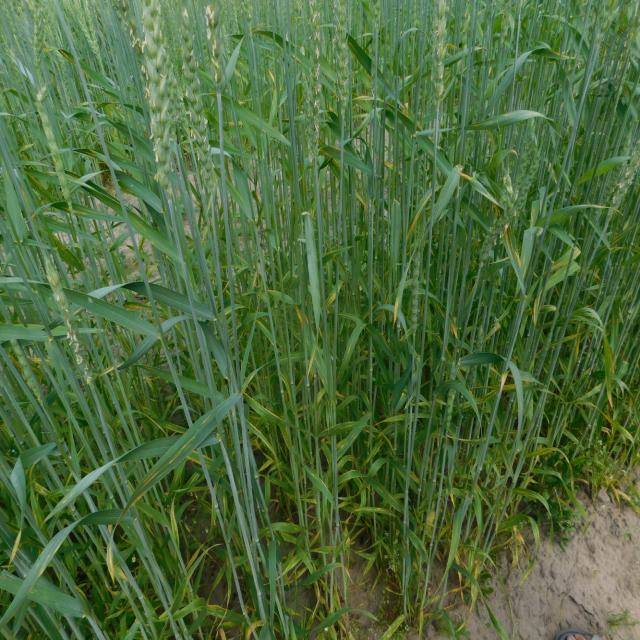wheat-yellowrust: (407, 193, 432, 242), (118, 494, 145, 527), (379, 615, 406, 640), (465, 584, 479, 630), (170, 490, 180, 546), (9, 530, 21, 566), (533, 289, 543, 326), (106, 544, 115, 585), (142, 468, 159, 489), (247, 620, 265, 639), (58, 50, 77, 67), (308, 346, 317, 376), (504, 229, 513, 259), (499, 371, 510, 395), (533, 447, 559, 456), (293, 305, 303, 327), (551, 261, 569, 271), (52, 542, 62, 557), (457, 171, 473, 180), (450, 322, 458, 340), (529, 206, 535, 229), (319, 149, 335, 157), (327, 291, 335, 306), (218, 627, 227, 640), (572, 248, 581, 261), (516, 252, 522, 268), (170, 454, 179, 464), (394, 301, 398, 322), (38, 566, 45, 578), (504, 385, 514, 391), (608, 395, 612, 408)
